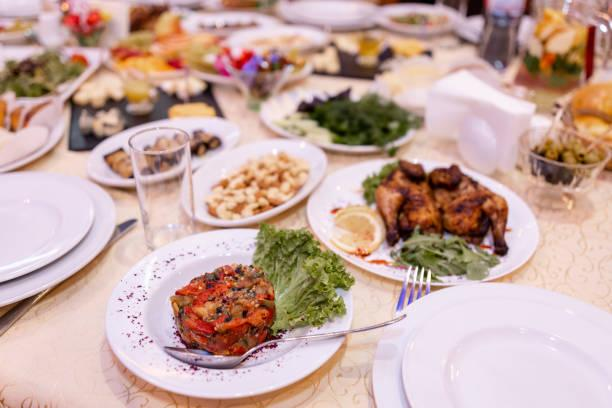Braised Crucian Carp: (103, 227, 353, 401), (306, 156, 536, 284), (178, 138, 332, 230)
